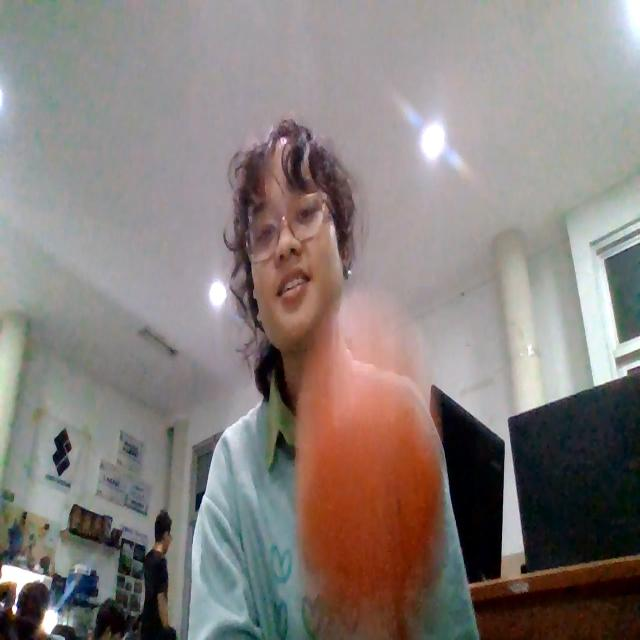ball: (303, 372, 437, 599)
